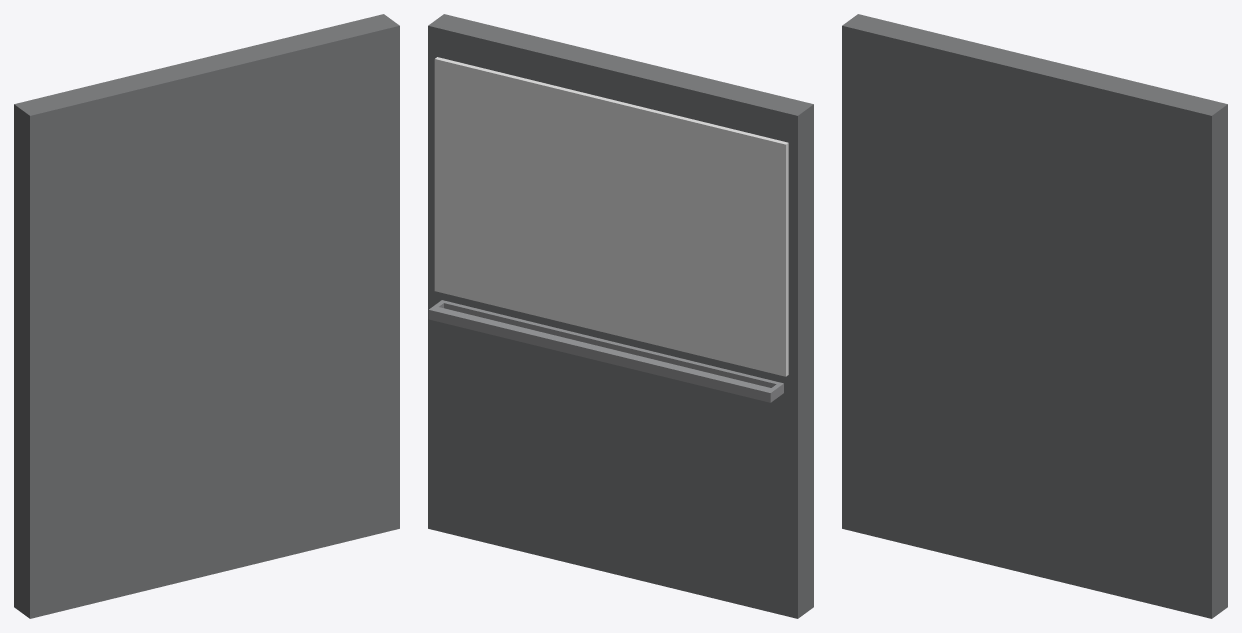
Rendered from elevator_02_M_int.glb.
3 views of the same model, side by side, from view 1: azimuth 30°, elevation 25°; view 2: azimuth 150°, elevation 25°; view 3: azimuth 330°, elevation 25° (orthographic).
Visible parts, largest first — view 1: Untitled.001; view 2: Untitled.001, Untitled; view 3: Untitled.001.
Boxes of the visible parts, x1,y1,x2,y2 form: Untitled.001: [14, 14, 399, 618]; Untitled.001: [428, 14, 813, 618]; Untitled: [434, 57, 788, 376]; Untitled.001: [842, 14, 1227, 618].
Bounding box in the file's own units: 2.4 × 3.12 × 0.33.
Materials: 2 (2 with a texture image).
